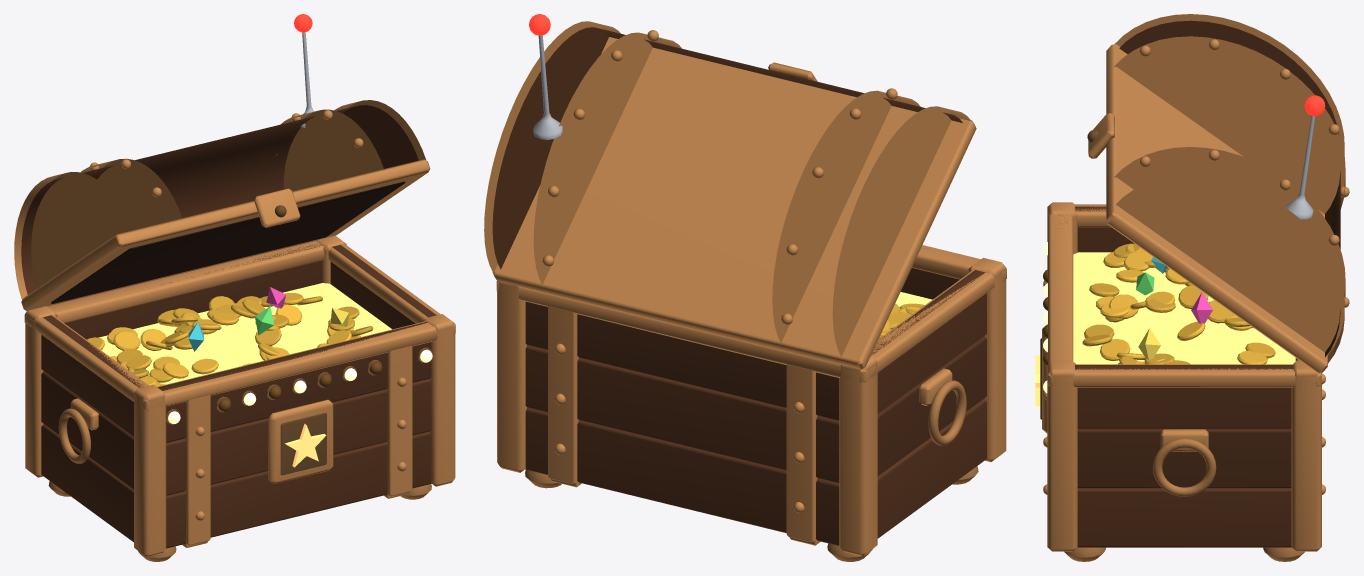
The model's file is loot_box_bronze.glb.
3 views of the same model, side by side, from view 1: azimuth 30°, elevation 25°; view 2: azimuth 150°, elevation 25°; view 3: azimuth 270°, elevation 25° (orthographic). The views are drawn at different scales.
Visible parts, largest first — view 1: Body, Lid; view 2: Lid, Body; view 3: Body, Lid.
Part boxes in pixels (<box>): Body: <box>24,235,455,561</box>; Lid: <box>14,14,430,310</box>; Lid: <box>484,14,976,369</box>; Body: <box>496,245,1006,561</box>; Body: <box>1035,202,1325,561</box>; Lid: <box>1087,14,1349,373</box>.
Bounding box in the file's own units: 1 × 1.15 × 0.7203.
